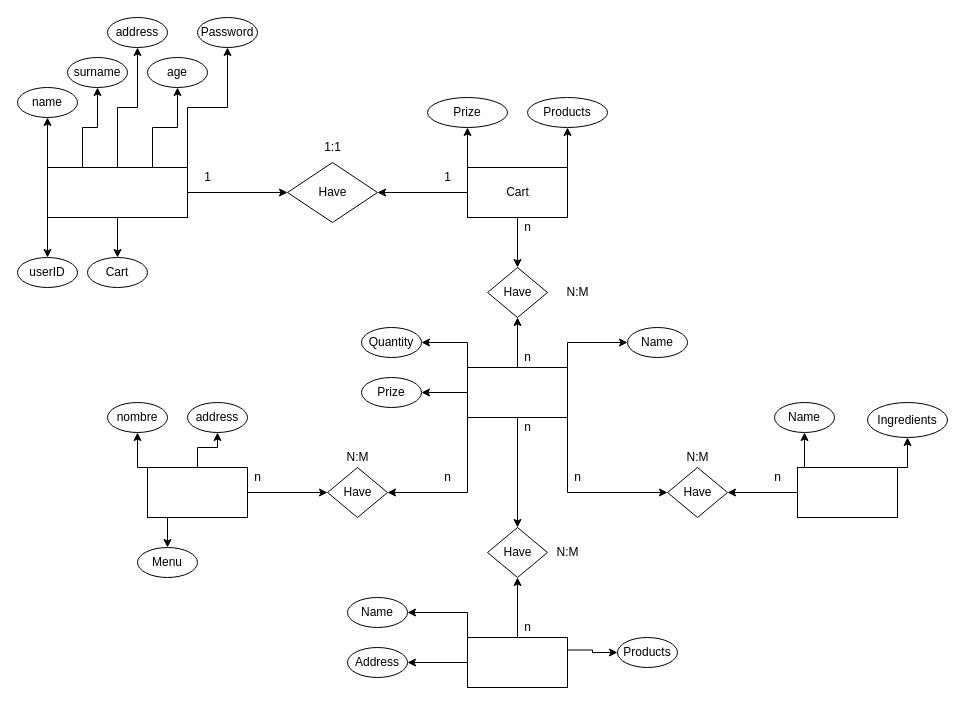
Image size: 965x705. Some labels were removed from this diagram. Here are the shapes that lost their labels. From the top down, the centre of each, then its label:
(117,192): Users
(517,392): Ingredient
(197,492): Restaurant
(847,492): Recipes
(517,662): Supermarket
